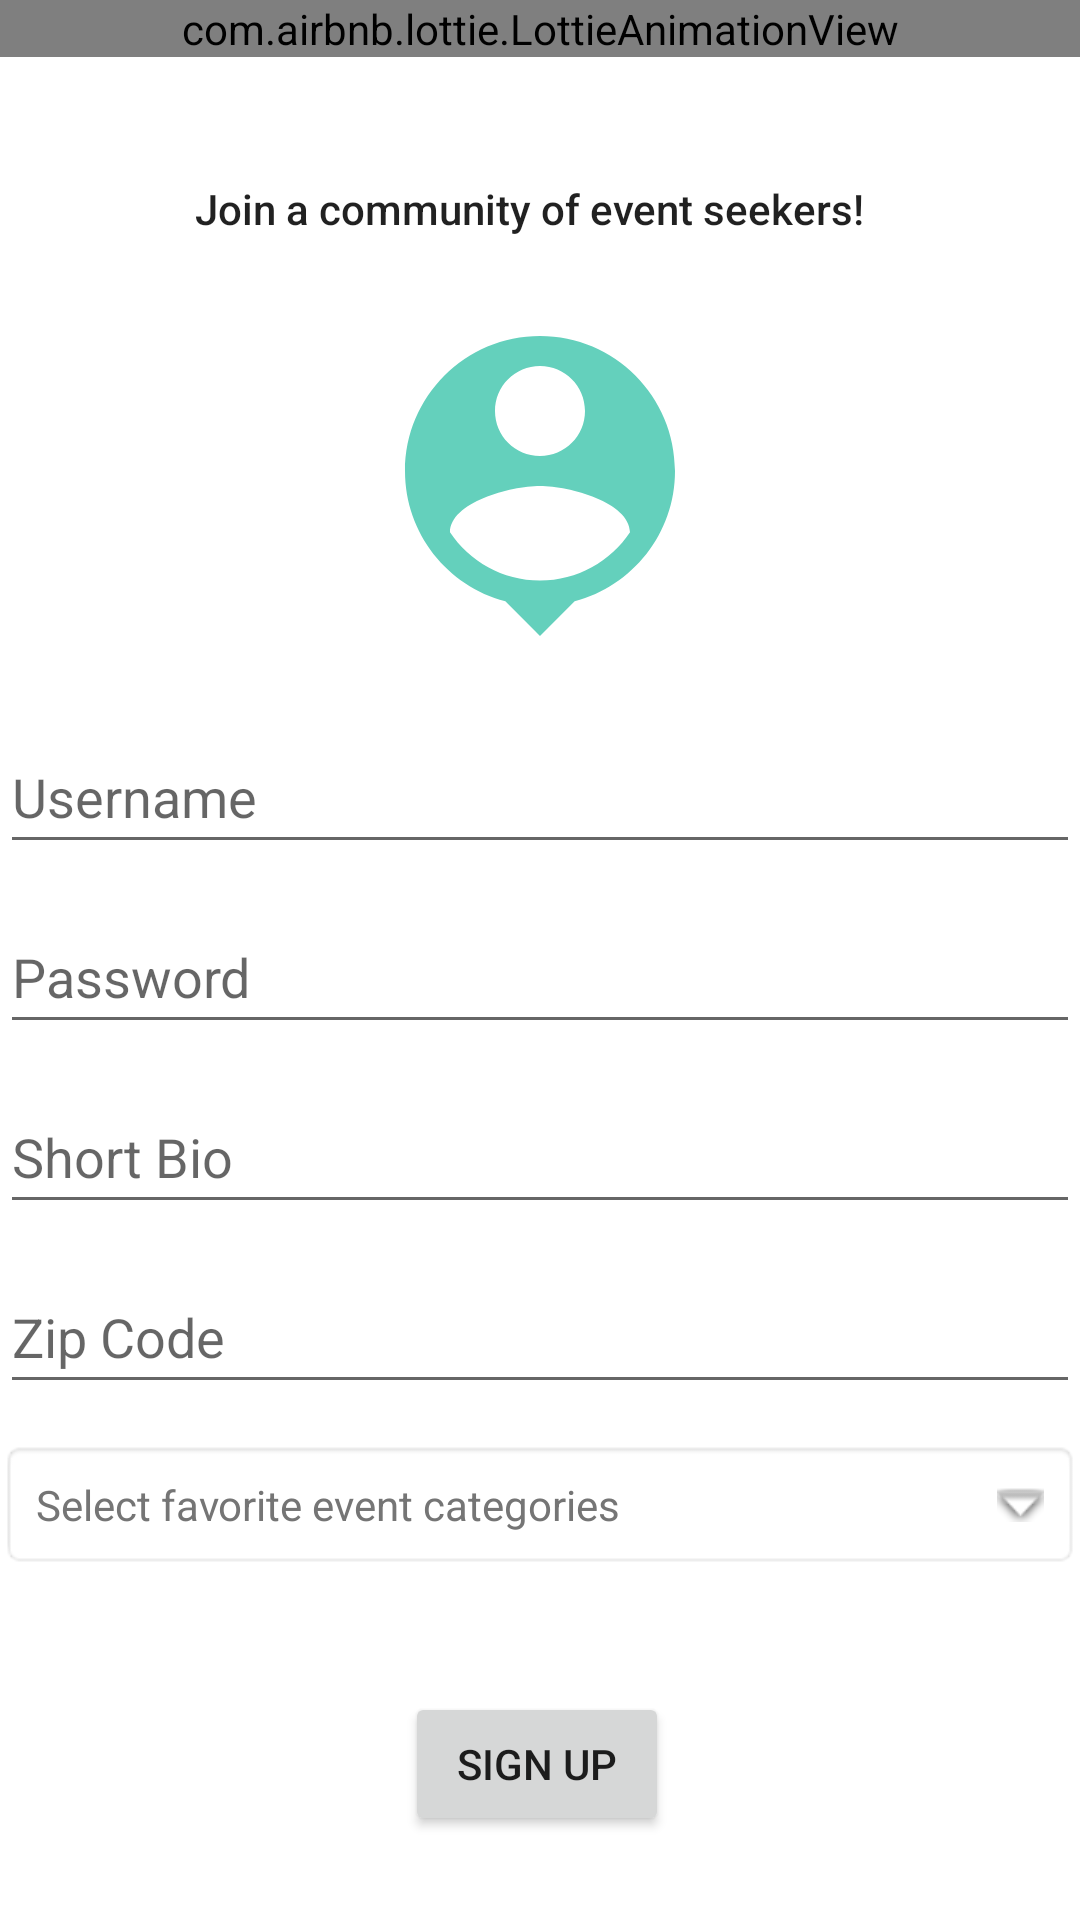

Where to tap for icons on this 1080*1920 app screen, as (x=x, y=y):
Select profile photo: (x=540, y=486)
